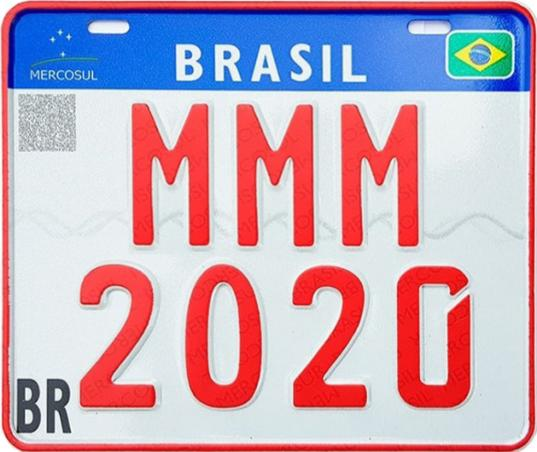Placa_mercosul_carro: (6, 15, 528, 441)
